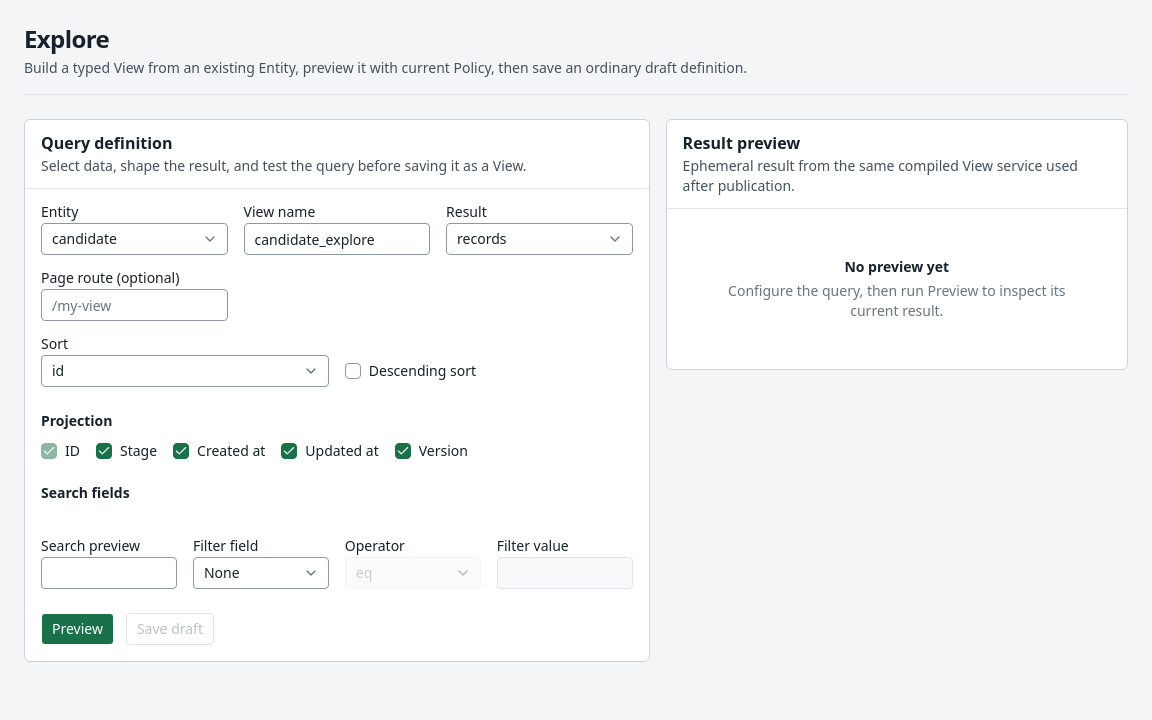
Test case: authors a grouped chart as an ordinary View
This screenshot has width=1152, height=720.
Check: the dropdown with test id "explore-entity" is shown, box top-left (41, 223), bottom-right (228, 255)
Type "Ada" into the search field labelled "Search preview" at (109, 573), box top-left (41, 557), bottom-right (177, 589)
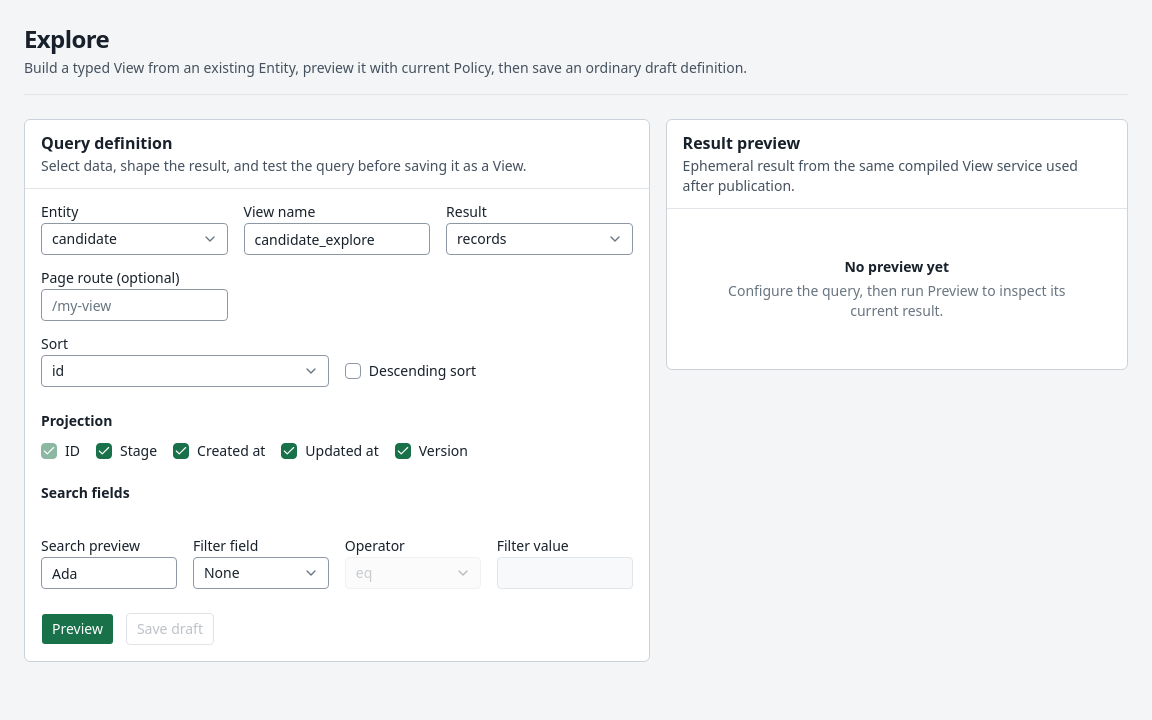
Select "groups" in the dropdown labelled "Result" at (539, 239), box top-left (446, 223), bottom-right (633, 255)
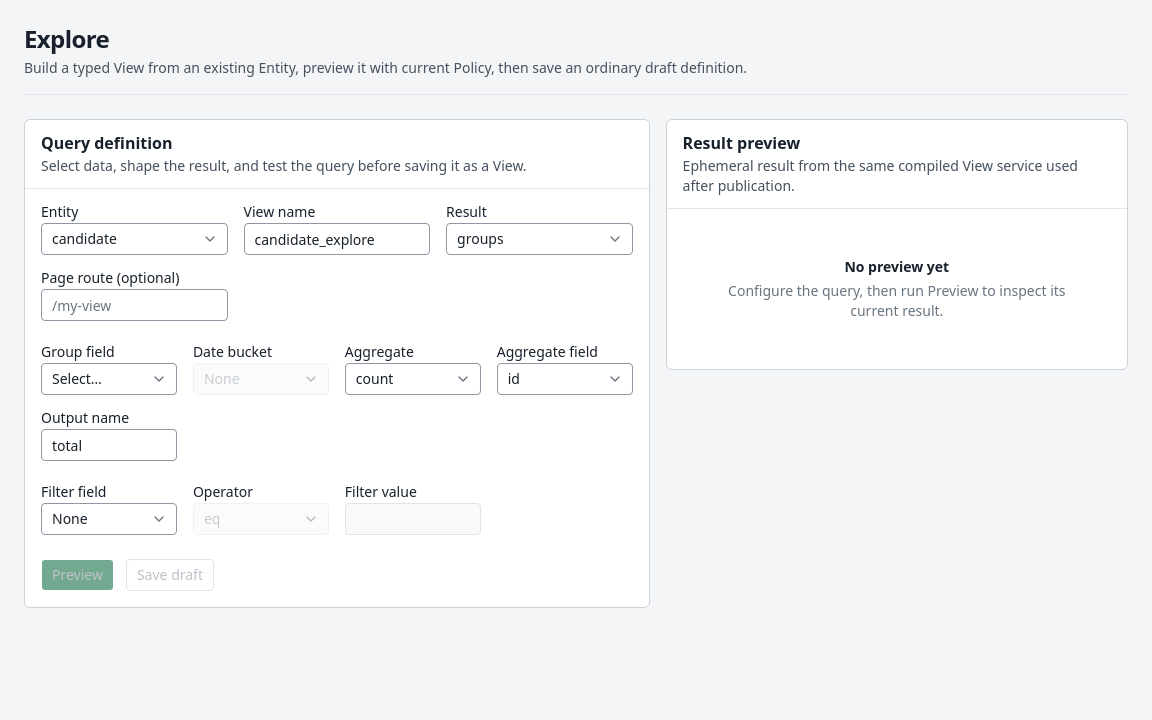
Check: the label labelled "Search preview" is gone
Select "stage" in the dropdown labelled "Group field" at (109, 379), box top-left (41, 363), bottom-right (177, 395)
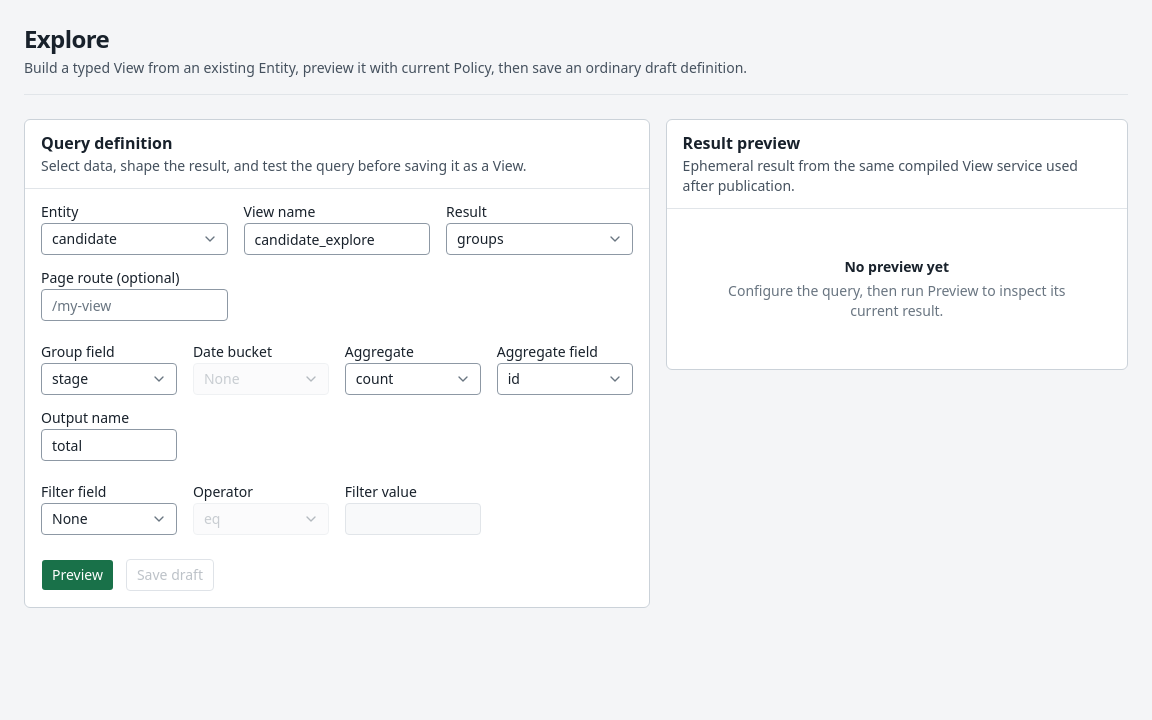
Type "/candidate-stages" into the field labelled "Page route (optional)" at (134, 305), box top-left (41, 289), bottom-right (228, 321)
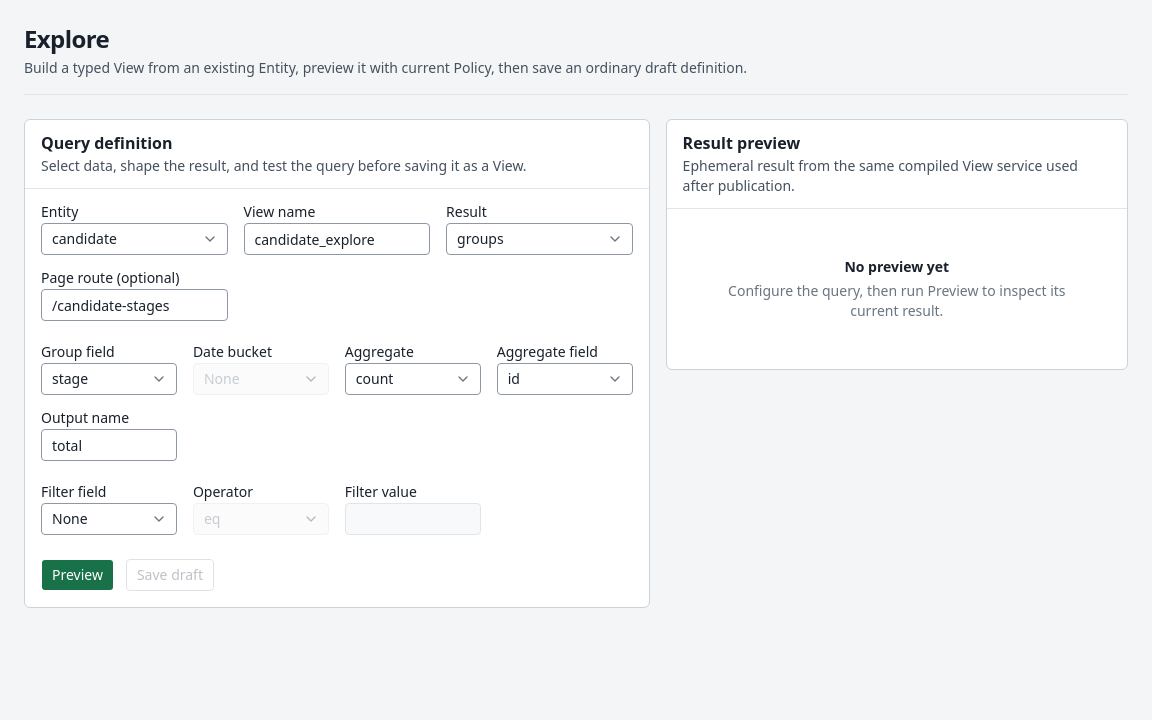
Click the button with test id "explore-preview" at (77, 575), box top-left (41, 559), bottom-right (114, 591)
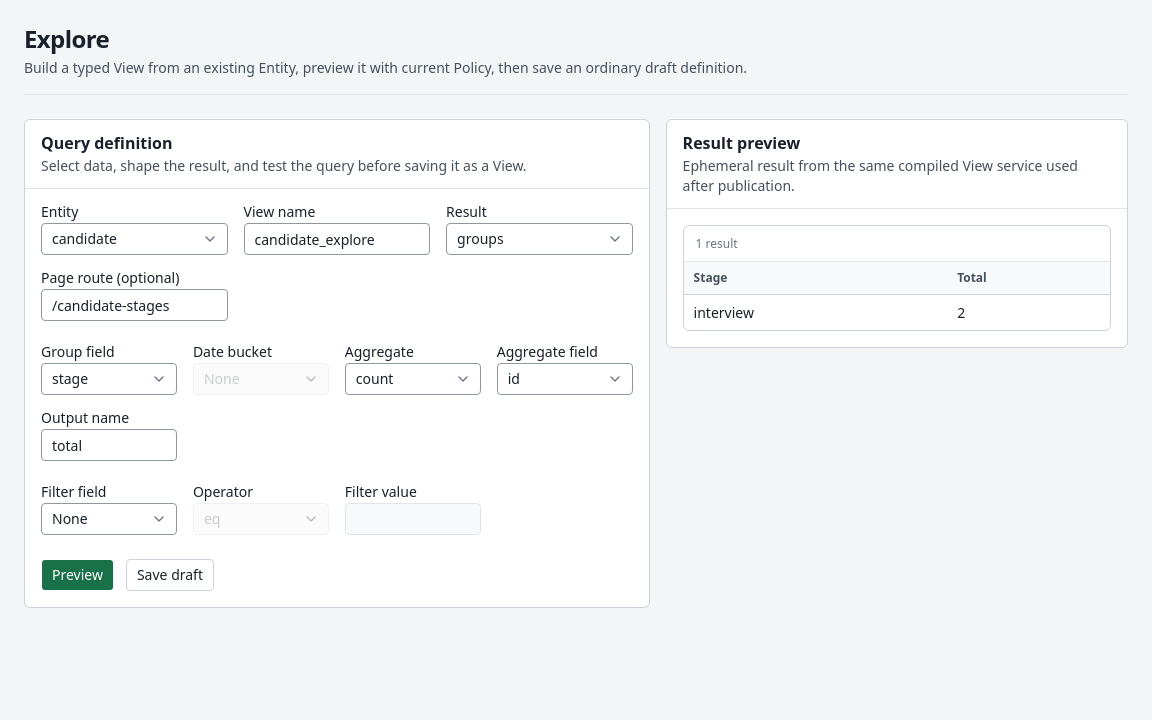
Check: the text "interview" is shown, box top-left (694, 303), bottom-right (754, 322)
Click the button with test id "explore-save" at (170, 575), box top-left (126, 559), bottom-right (214, 591)
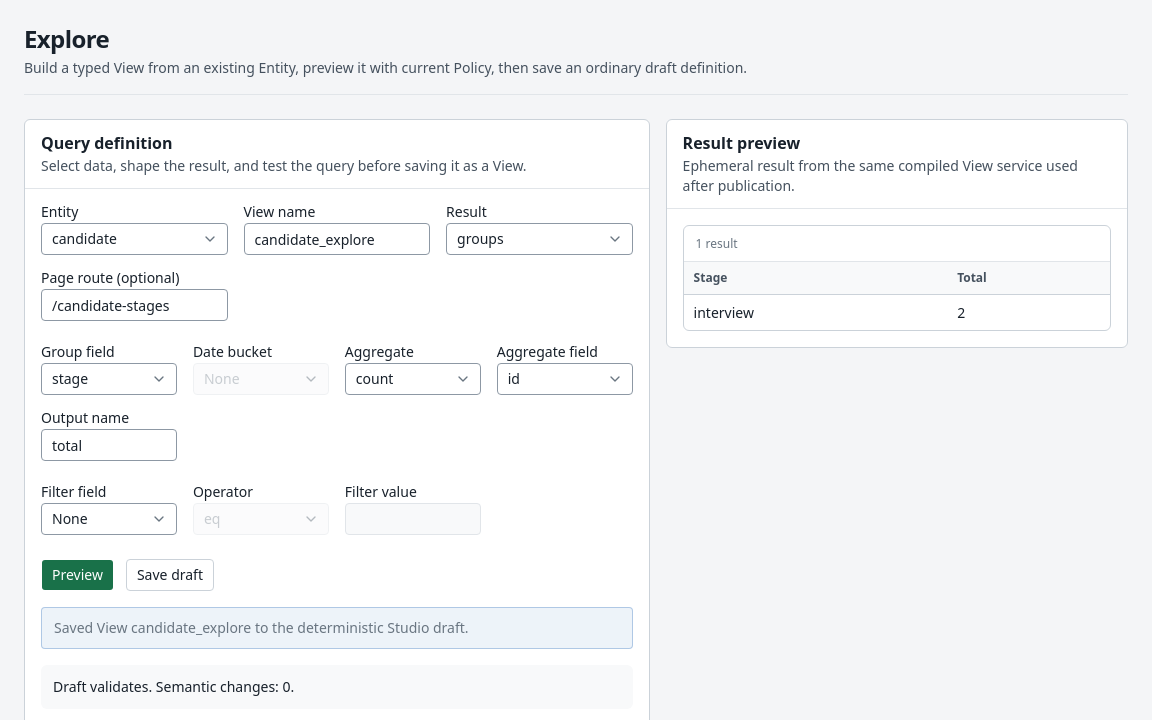
Check: the text "Saved View candidate_explore to the deterministic Studio draft." is shown, box top-left (54, 618), bottom-right (469, 637)
